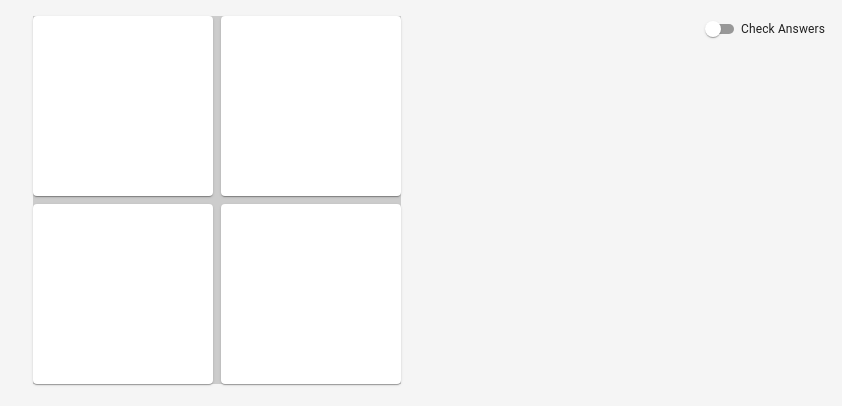
Crossword › should show success banner when grid is complete and correct
The image size is (842, 406).
// Fill in correct answers
Step 1. Type "A" into the 1st field → (123, 106), box [33,85,213,127]
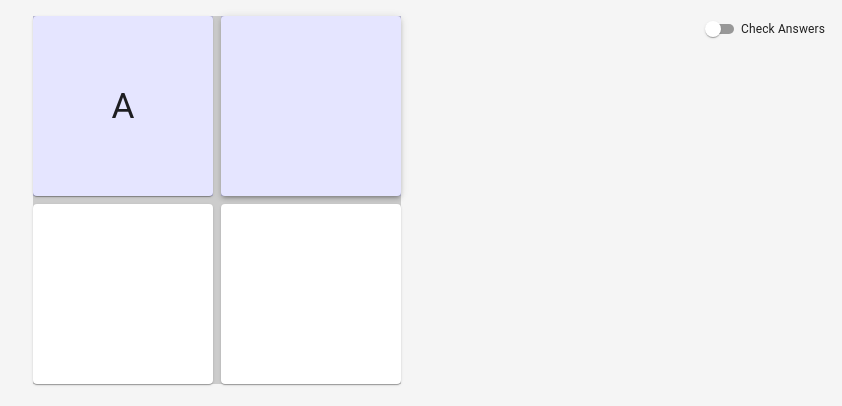
Step 2. Type "B" into the 2nd field → (311, 106), box [221,85,401,127]
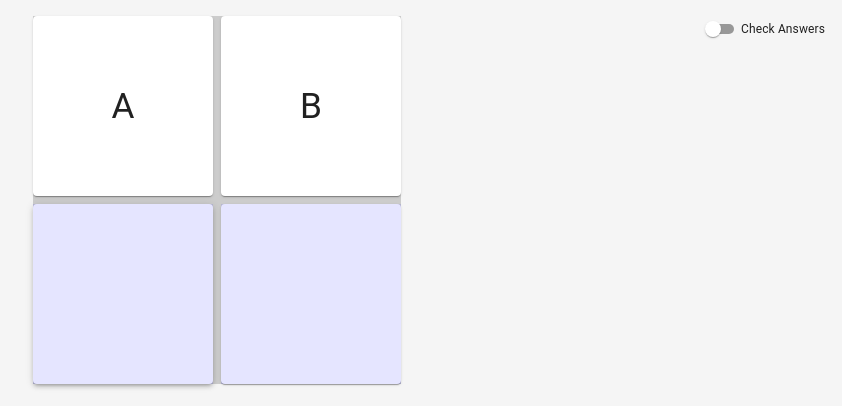
Step 3. Type "C" into the 3rd field → (123, 294), box [33,273,213,315]
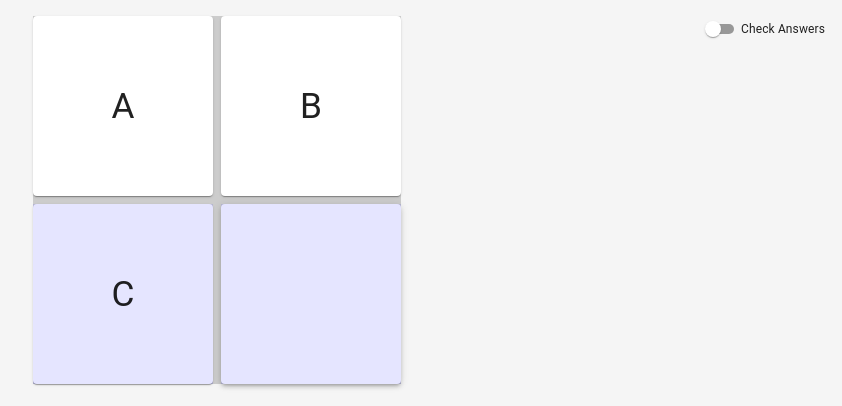
Step 4. Type "D" into the 4th field → (311, 294), box [221,273,401,315]
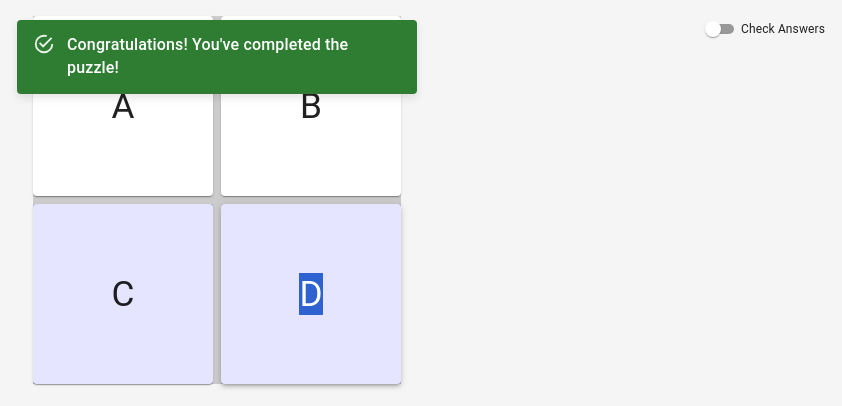
Now the text "Congratulations! You've completed the puzzle!" is shown, box [67,35,348,77]
